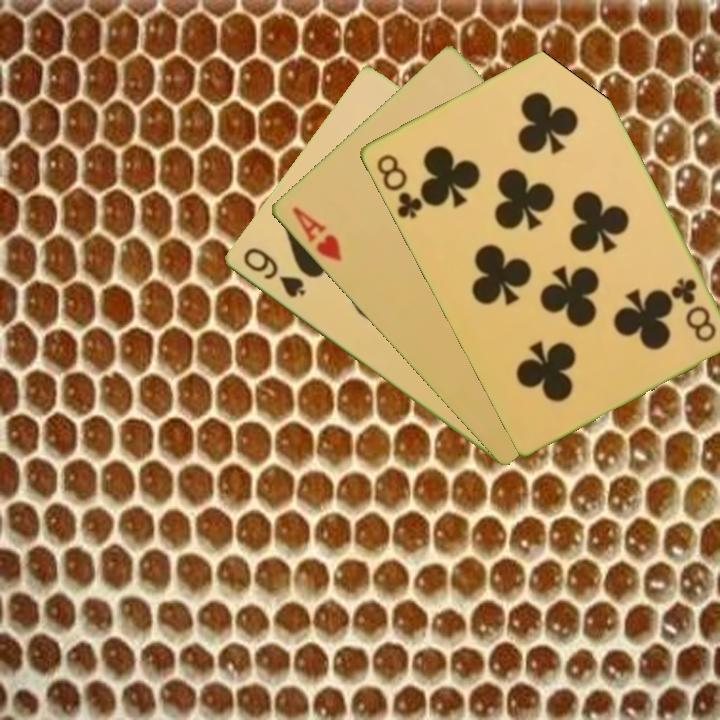8c: (372, 150, 425, 221), (667, 274, 719, 345)
9s: (239, 244, 308, 301)
Ah: (288, 203, 345, 265)
